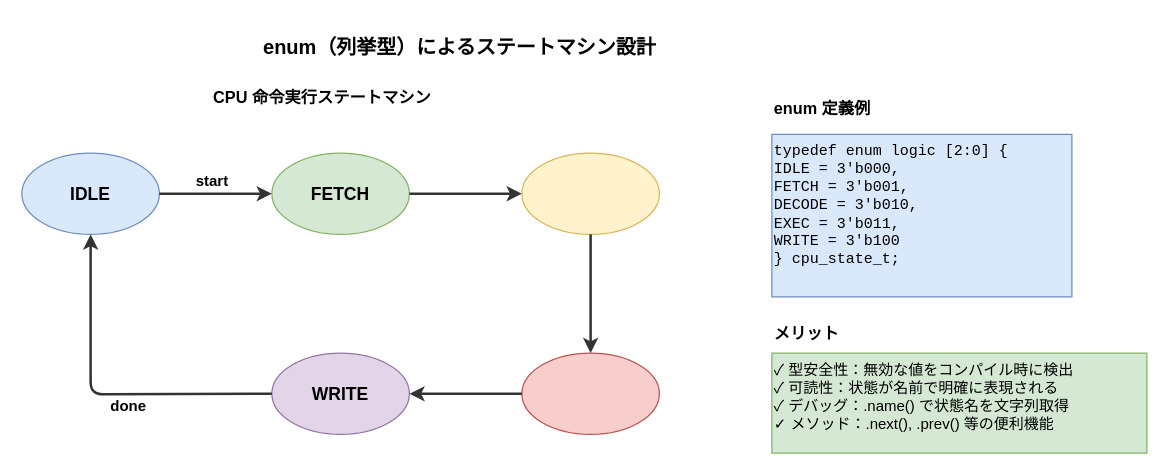
This 1169x475 diagram has some shape labels left out. The shapes that lost their labels are listed below. From the top down, each one's box as (x1, y1, x2, y2) in pixels, then its label:
(521, 152, 659, 234): DECODE
(521, 352, 659, 434): EXEC
